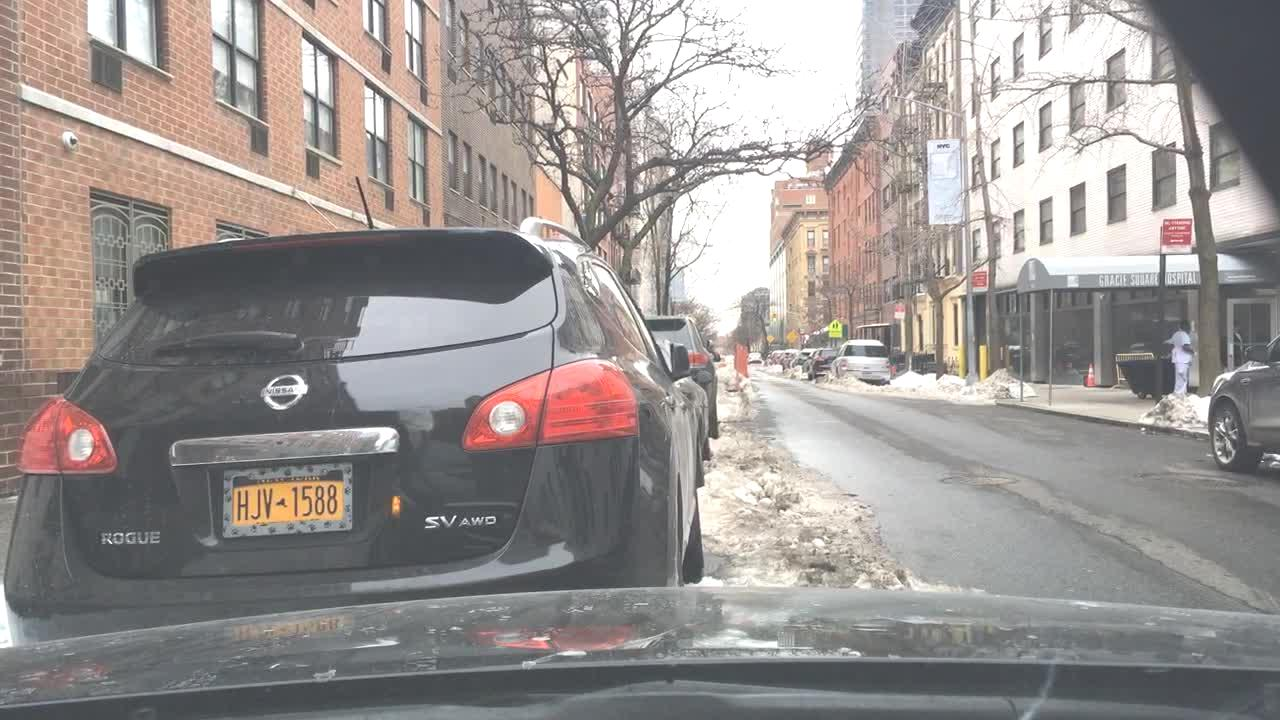Nissan: (241, 362, 327, 426)
